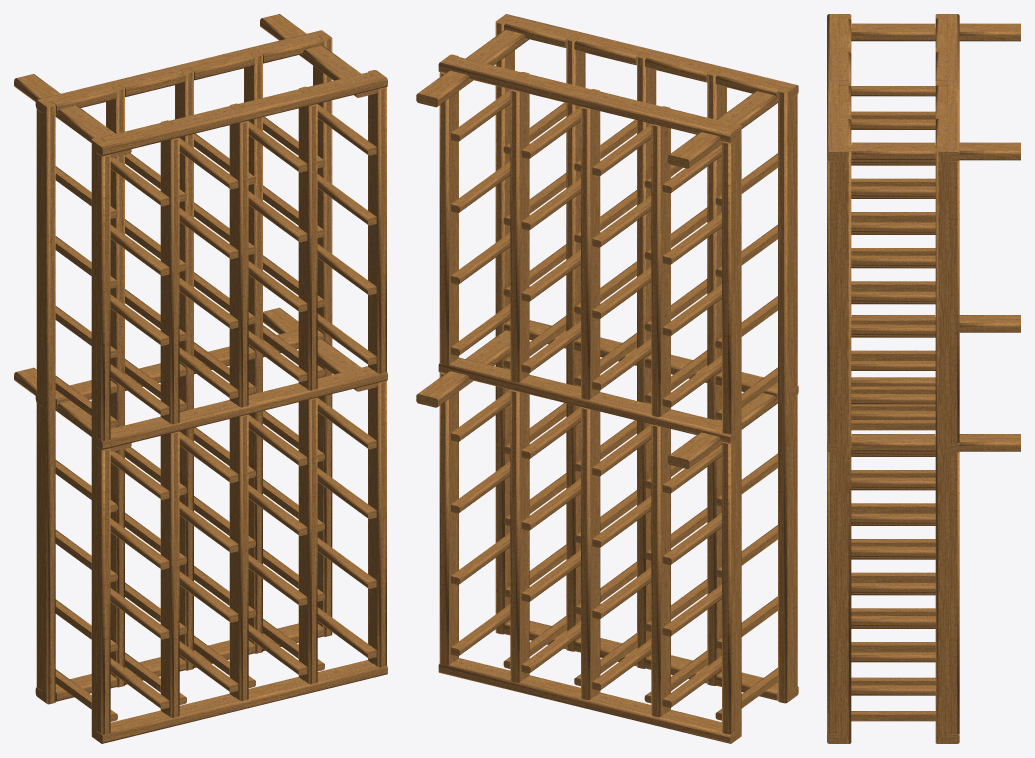
File: VCKA0020.glb
3 views of the same model, side by side, from view 1: azimuth 30°, elevation 25°; view 2: azimuth 150°, elevation 25°; view 3: azimuth 270°, elevation 25° (orthographic). The views are drawn at different scales.
Parts seen in each view (by area): view 1: G-Difference.018; view 2: G-Difference.018; view 3: G-Difference.018.
Boxes of the visible parts, left/top/right/bottom form: G-Difference.018: left=14, top=14, right=387, bottom=743; G-Difference.018: left=416, top=14, right=798, bottom=743; G-Difference.018: left=827, top=14, right=1020, bottom=743.
Size of the model in its own units: 0.406 by 0.812 by 0.241.
Materials: 2 (2 with a texture image).
